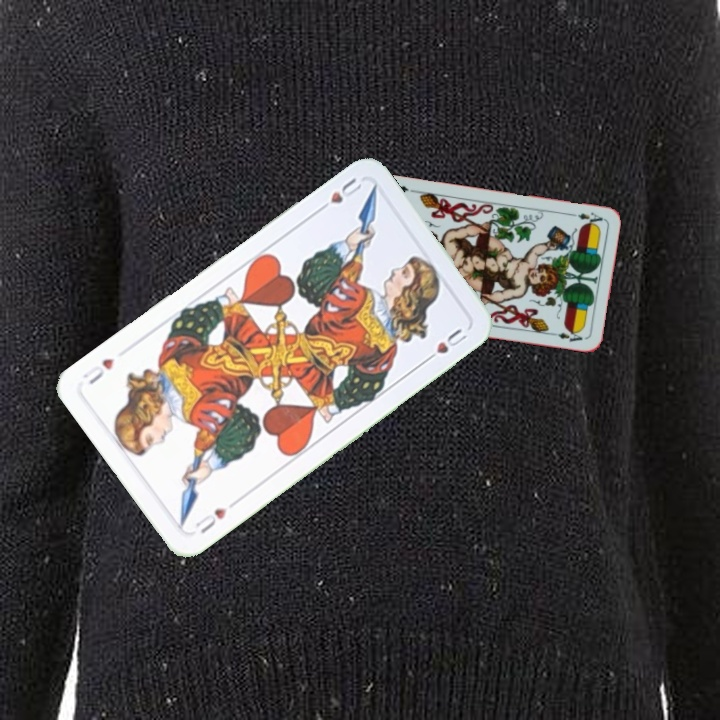EA: (565, 208, 605, 227)
HU: (313, 173, 365, 215), (191, 497, 239, 536)
